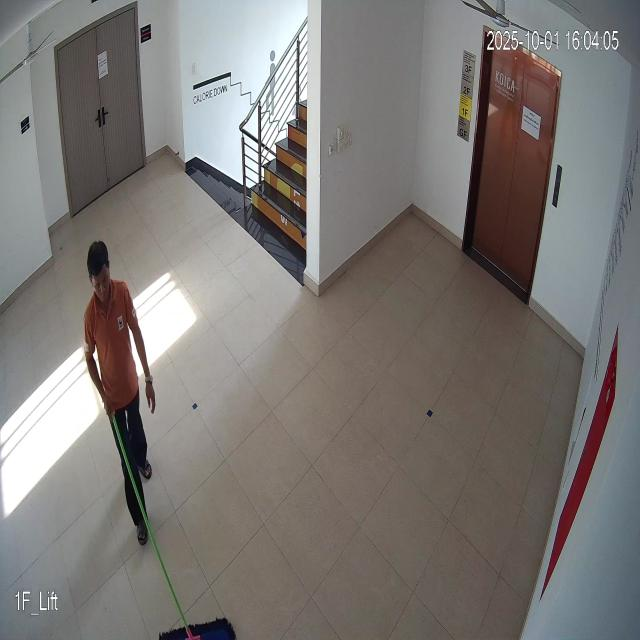face: (81, 231, 117, 311)
